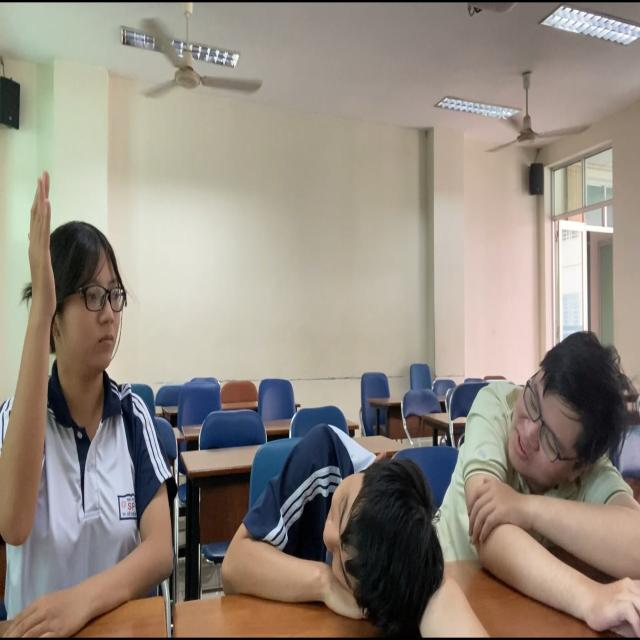raise_hand: (1, 155, 187, 640)
sleep: (214, 386, 440, 640)
